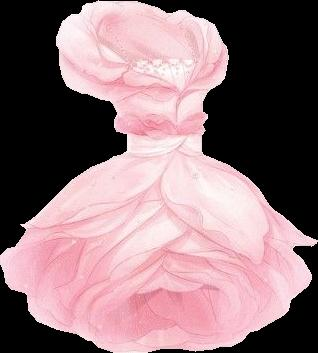Bodice: (56, 1, 228, 155)
Hemline: (26, 168, 314, 248), (2, 199, 166, 258), (27, 239, 83, 300)
Neckline: (127, 59, 202, 91), (132, 58, 199, 68)
Skirt: (0, 148, 317, 352)
Waistline: (125, 145, 204, 159)
